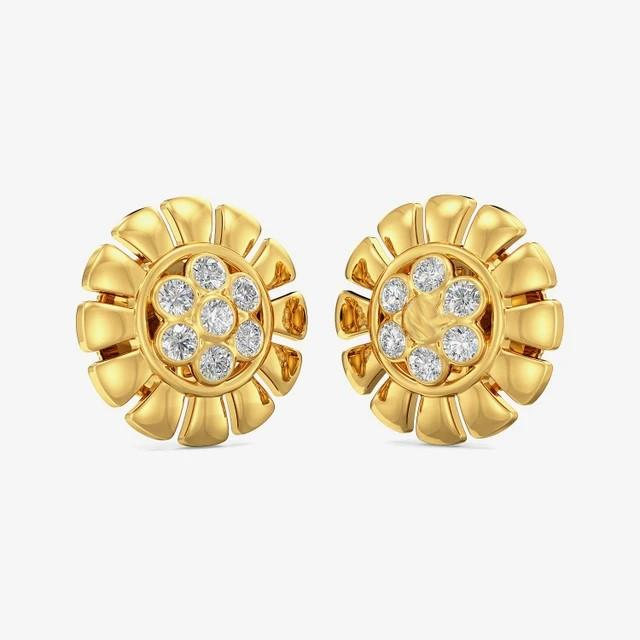missing gem: (404, 296, 444, 340)
